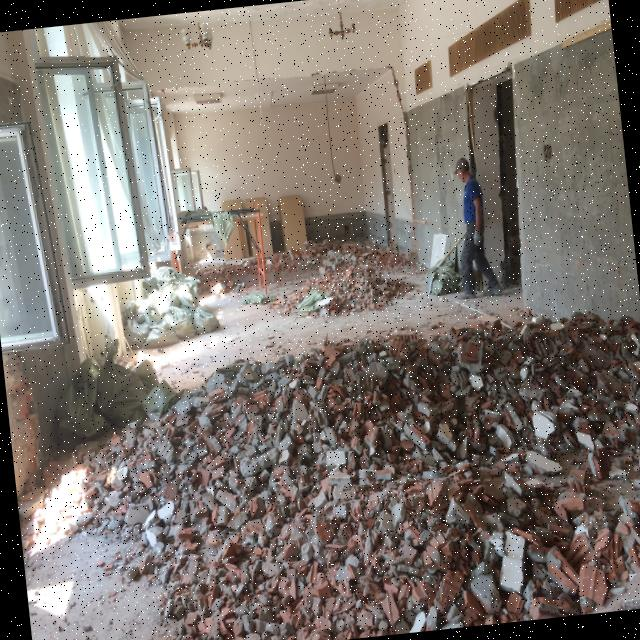NoHelmet: (453, 157, 474, 185)
